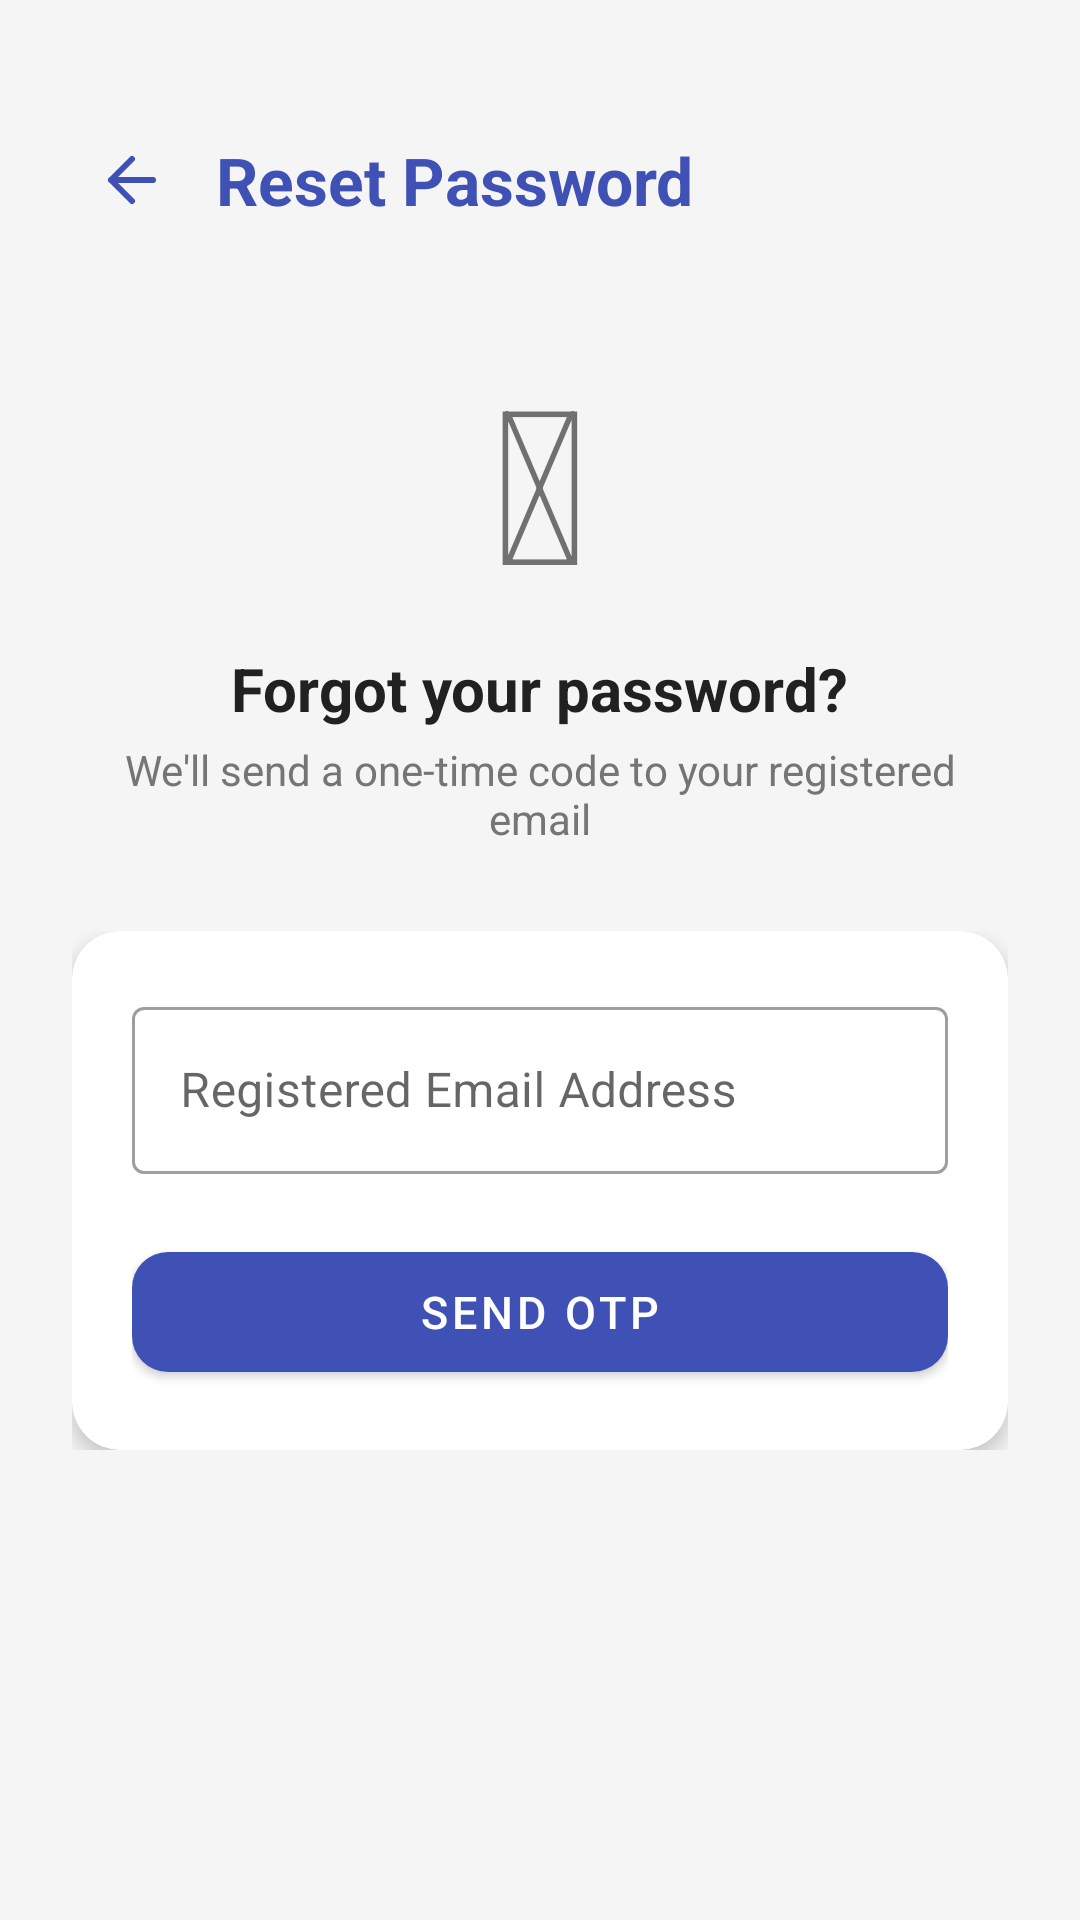

Point at icon controls on the screen. Image size 1080px x 1920px, points as [x,y].
arrow back: [132,180]
